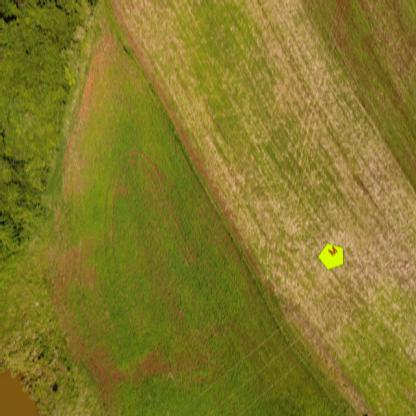M: (328, 244, 338, 258)
pentagon: (317, 243, 343, 271)
